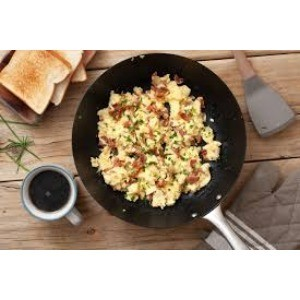egg_brain food: (100, 83, 210, 200)
